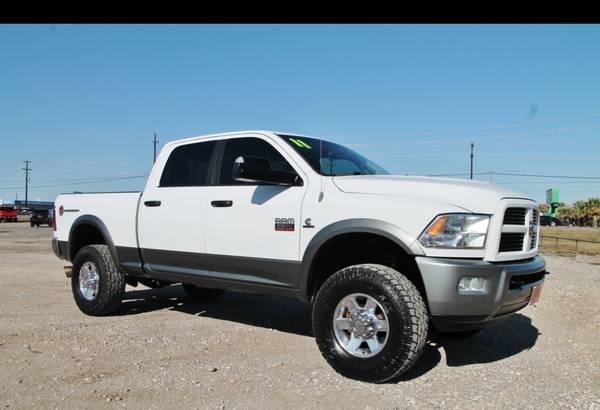Front_Bumper: (416, 253, 548, 319)
Front_Fender: (297, 178, 484, 301)
Front_Right_Door: (206, 180, 309, 292)
Front_Right_Window: (214, 137, 310, 187)
Front_Windshield: (278, 134, 390, 177)
Grille: (484, 199, 541, 262)
Hood: (330, 170, 531, 212)
Rear_Fender: (53, 192, 145, 274)
Rear_Right_Door: (136, 188, 212, 281)
Rear_Right_Window: (157, 141, 221, 186)
Right_Headlight: (417, 210, 494, 248)
Roof: (142, 131, 319, 188)
Wheel: (312, 260, 429, 380), (69, 243, 124, 316)
